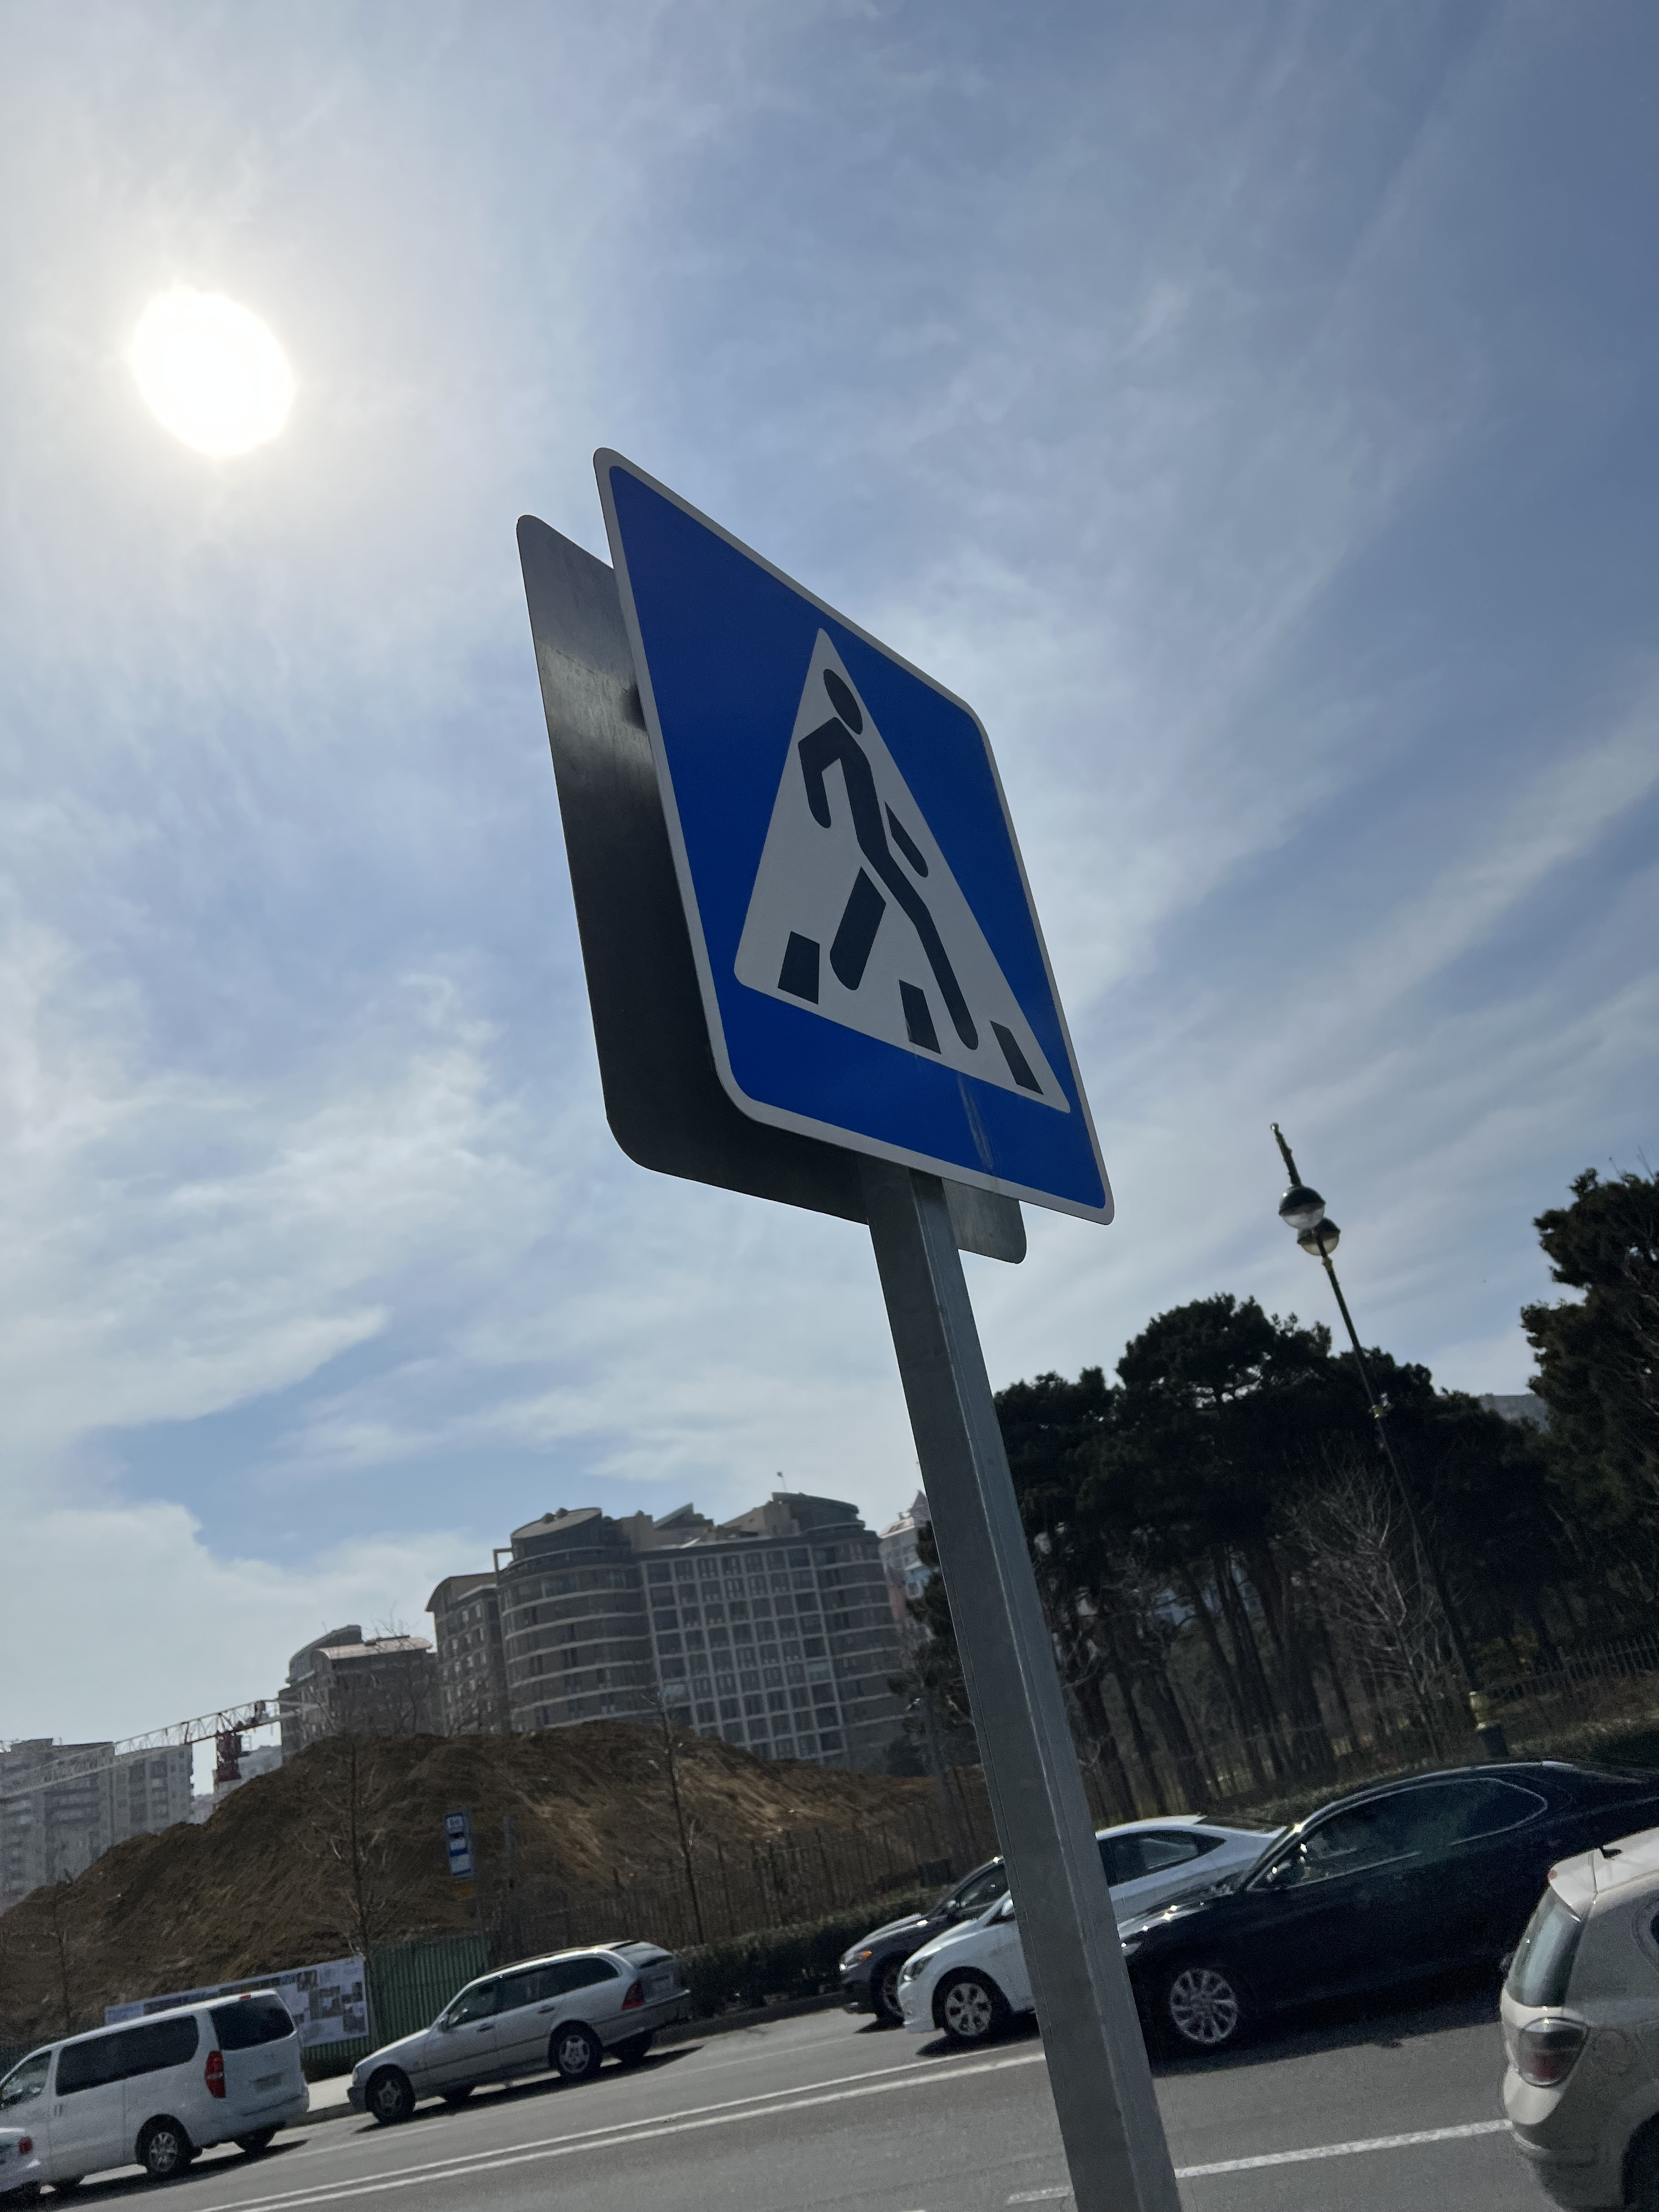Pedestrian Crossing: (596, 449, 1115, 1231)
